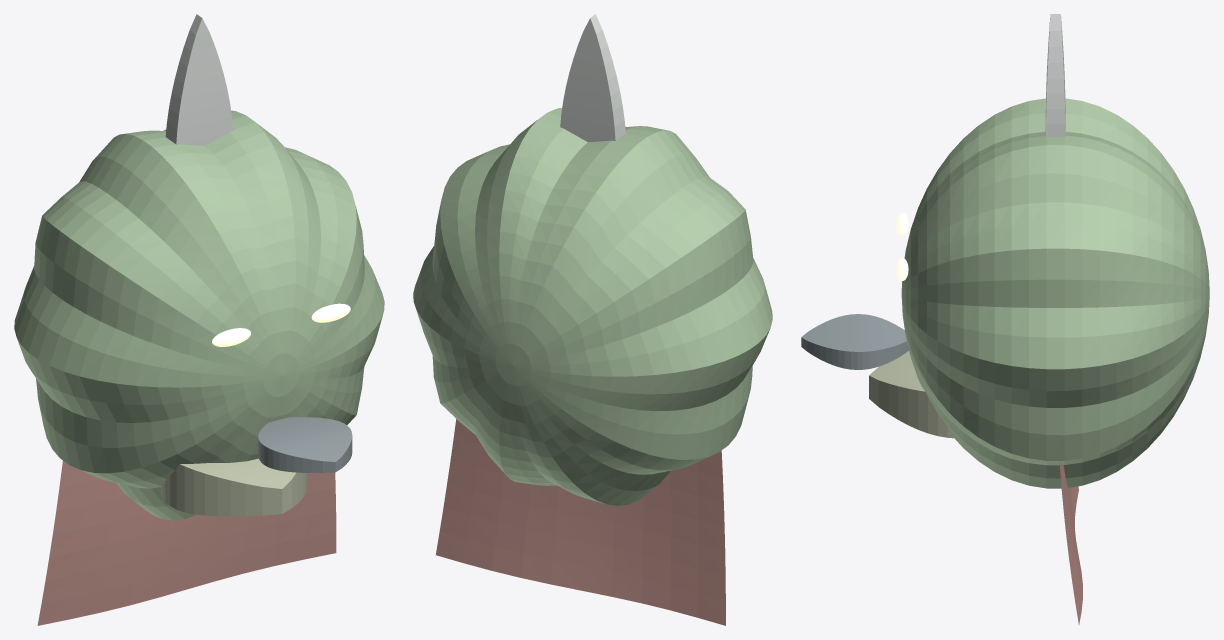
File: hero_arbuzilla.glb
3 views of the same model, side by side, from view 1: azimuth 30°, elevation 25°; view 2: azimuth 150°, elevation 25°; view 3: azimuth 270°, elevation 25° (orthographic). The views are drawn at different scales.
Parts seen in each view (by area): view 1: body, cape, shield, sword_blade, face_mask, eye_R, eye_L; view 2: body, cape, sword_blade; view 3: body, face_mask, shield, sword_blade, cape.
Part boxes in pixels (x1=…): body: x1=14, y1=110, x2=384, y2=520; cape: x1=37, y1=461, x2=336, y2=625; shield: x1=161, y1=458, x2=306, y2=516; sword_blade: x1=165, y1=14, x2=233, y2=145; face_mask: x1=258, y1=417, x2=352, y2=472; eye_R: x1=311, y1=303, x2=350, y2=322; eye_L: x1=212, y1=328, x2=250, y2=346; body: x1=413, y1=108, x2=772, y2=505; cape: x1=436, y1=419, x2=725, y2=625; sword_blade: x1=560, y1=14, x2=625, y2=142; body: x1=901, y1=98, x2=1209, y2=488; face_mask: x1=801, y1=314, x2=908, y2=369; shield: x1=869, y1=351, x2=957, y2=438; sword_blade: x1=1045, y1=14, x2=1065, y2=136; cape: x1=1059, y1=462, x2=1082, y2=624.
Bounding box in the file's own units: 1.54 × 2.57 × 1.75.
